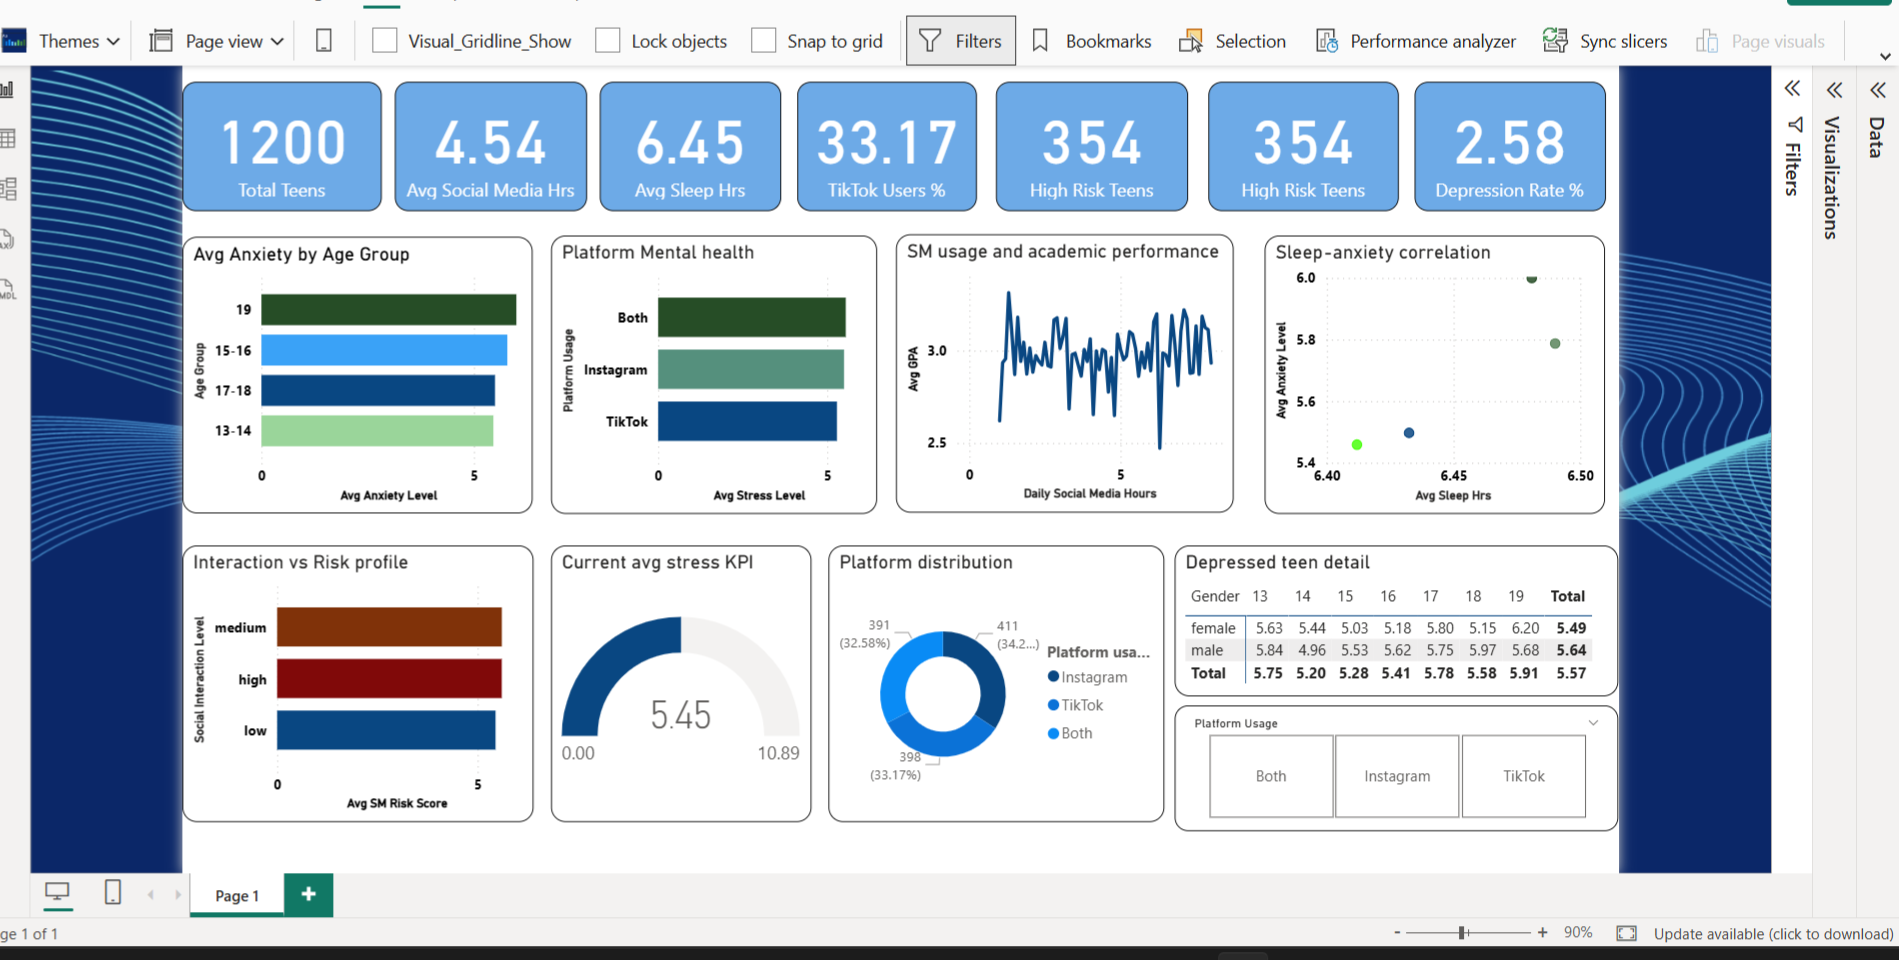

The page's visual inventory and layout, read from the dashboard file:
{"tool":"powerbi","page":{"name":"Page 1","canvas":[1280,720],"ordinal":0},"visuals":[{"type":"card","fields":{"Values":["Social media impact on teenager mental health.Total Teens"]},"box":[0,14.4,177.9,115.4],"z":0},{"type":"card","fields":{"Values":["Social media impact on teenager mental health.High Risk Teens"]},"box":[724.3,14.4,171.5,115.4],"z":1000},{"type":"card","fields":{"Values":["Social media impact on teenager mental health.Avg Sleep Hrs"]},"box":[371.8,14.4,161.8,115.4],"z":2000},{"type":"card","fields":{"Values":["Social media impact on teenager mental health.TikTok Users %"]},"box":[548,14.4,160.2,115.4],"z":3000},{"type":"card","fields":{"Values":["Social media impact on teenager mental health.Avg Social Media Hrs"]},"box":[189.1,14.4,171.5,115.4],"z":4000},{"type":"card","fields":{"Values":["Social media impact on teenager mental health.High Risk Teens"]},"box":[913.4,14.4,169.9,115.4],"z":5000},{"type":"card","fields":{"Values":["Social media impact on teenager mental health.Depression Rate %"]},"box":[1097.6,14.3,170.2,115.5],"z":6000},{"type":"barChart","title":"Avg Anxiety by Age Group","fields":{"Y":["Social media impact on teenager mental health.Avg Anxiety Level"],"Category":["Social media impact on teenager mental health.Age Group"]},"box":[0,152.4,311.9,246.4],"z":7000},{"type":"barChart","title":"Interaction vs Risk profile","fields":{"Y":["Social media impact on teenager mental health.Avg SM Risk Score"],"Category":["Social media impact on teenager mental health.Social Interaction Level"]},"box":[0,427.4,313.1,246.4],"z":8000},{"type":"barChart","title":"Platform Mental health","fields":{"Category":["Social media impact on teenager mental health.Platform Usage"],"Y":["Social media impact on teenager mental health.Avg Stress Level"]},"box":[328.6,151.2,290.5,247.6],"z":9000},{"type":"lineChart","title":"SM usage and academic performance ","fields":{"Category":["Social media impact on teenager mental health.Daily Social Media Hours"],"Y":["Social media impact on teenager mental health.Avg GPA"]},"box":[635.7,150,301.2,247.6],"z":10000},{"type":"scatterChart","title":"Sleep-anxiety correlation","fields":{"Category":["Social media impact on teenager mental health.Age Group"],"X":["Social media impact on teenager mental health.Avg Sleep Hrs"],"Y":["Social media impact on teenager mental health.Avg Anxiety Level"]},"box":[964.3,151.2,303.6,247.6],"z":11000},{"type":"gauge","title":"Current avg stress KPI","fields":{"Y":["Social media impact on teenager mental health.Avg Stress Level"]},"box":[328.6,427.4,232.1,246.4],"z":12000},{"type":"donutChart","title":"Platform distribution","fields":{"Category":["Social media impact on teenager mental health.Platform Usage"],"Y":["Social media impact on teenager mental health.Total Teens"]},"box":[575,427.4,298.8,246.4],"z":13000},{"type":"pivotTable","title":"Depressed teen detail ","fields":{"Rows":["Social media impact on teenager mental health.Gender"],"Columns":["Social media impact on teenager mental health.Age"],"Values":["Avg(Social media impact on teenager mental health.Addiction Level)"]},"box":[883.3,427.4,395.2,134.5],"z":14000},{"type":"slicer","fields":{"Values":["Social media impact on teenager mental health.Platform Usage"]},"box":[883.3,570.2,395.2,111.9],"z":15000}]}

Visuals, with their boxes on the page's 1280x720 design canvas (x1, y1, x2, y2). These are canvas units, not pixel positions in the 1899x961 screenshot, which may show the page scaled, cropped or inside an application window:
card - Social media impact on teenager mental health.Total Teens: 0,14,178,130
card - Social media impact on teenager mental health.High Risk Teens: 724,14,896,130
card - Social media impact on teenager mental health.Avg Sleep Hrs: 372,14,534,130
card - Social media impact on teenager mental health.TikTok Users %: 548,14,708,130
card - Social media impact on teenager mental health.Avg Social Media Hrs: 189,14,361,130
card - Social media impact on teenager mental health.High Risk Teens: 913,14,1083,130
card - Social media impact on teenager mental health.Depression Rate %: 1098,14,1268,130
"Avg Anxiety by Age Group" barChart: 0,152,312,399
"Interaction vs Risk profile" barChart: 0,427,313,674
"Platform Mental health" barChart: 329,151,619,399
"SM usage and academic performance " lineChart: 636,150,937,398
"Sleep-anxiety correlation" scatterChart: 964,151,1268,399
"Current avg stress KPI" gauge: 329,427,561,674
"Platform distribution" donutChart: 575,427,874,674
"Depressed teen detail " pivotTable: 883,427,1278,562
slicer - Social media impact on teenager mental health.Platform Usage: 883,570,1278,682
